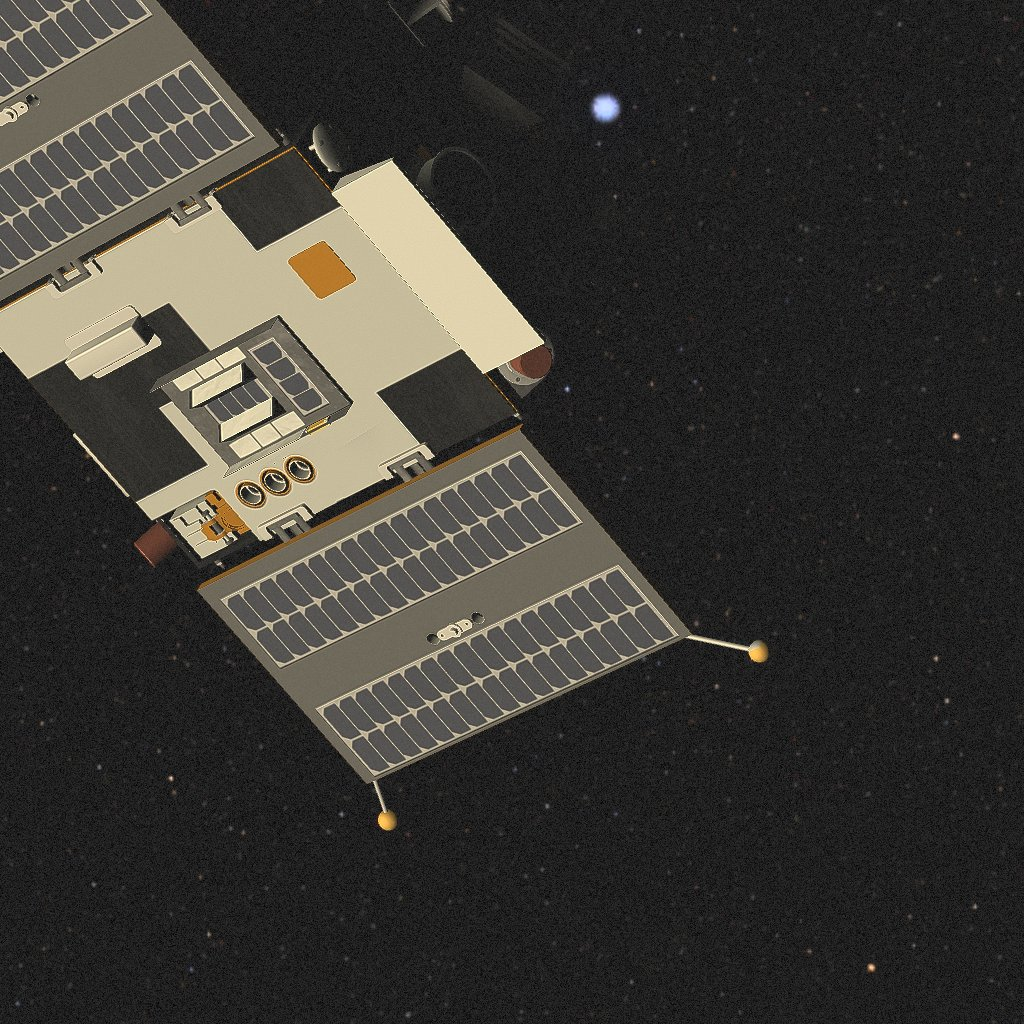proba_2: (0, 0, 771, 830)
